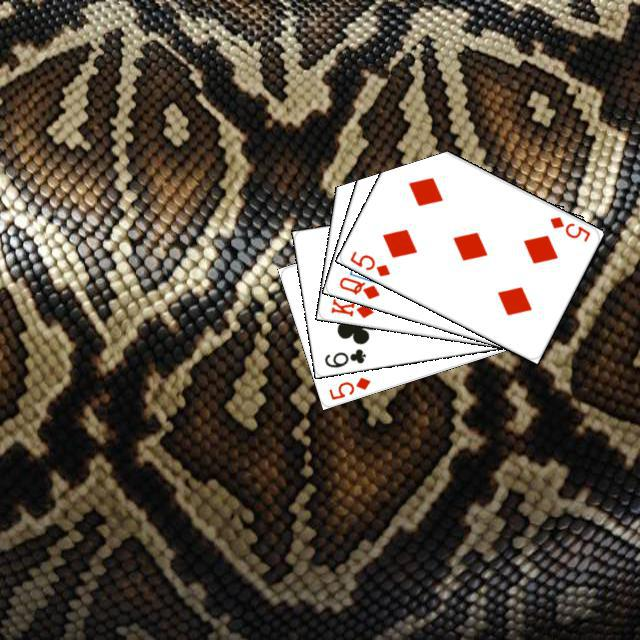5d: (544, 211, 592, 244), (345, 246, 392, 278), (324, 372, 372, 401)
6c: (319, 344, 368, 369)
Kd: (326, 294, 375, 320)
Qd: (334, 272, 381, 301)
